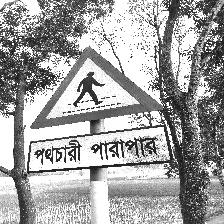Pedestrian-crossing: (28, 45, 172, 170)
